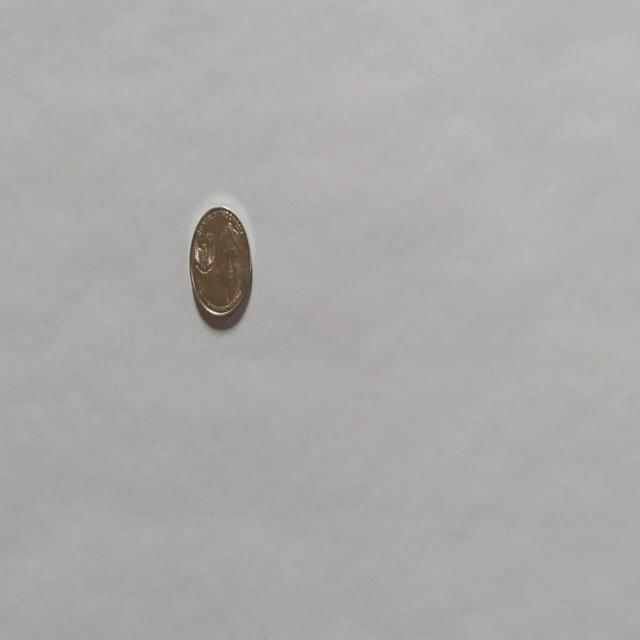dua ratus rupiah: (188, 204, 252, 328)
